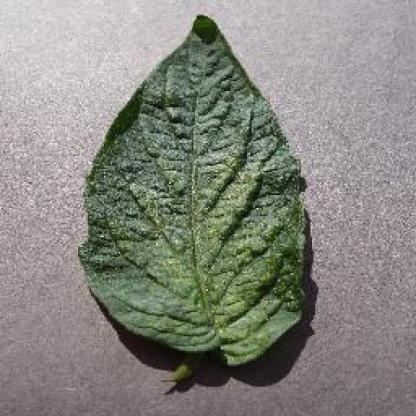Strawberry_Blossom_Blight: (241, 135, 289, 176), (124, 179, 176, 216), (235, 237, 275, 280), (191, 144, 230, 182), (228, 93, 269, 128)
